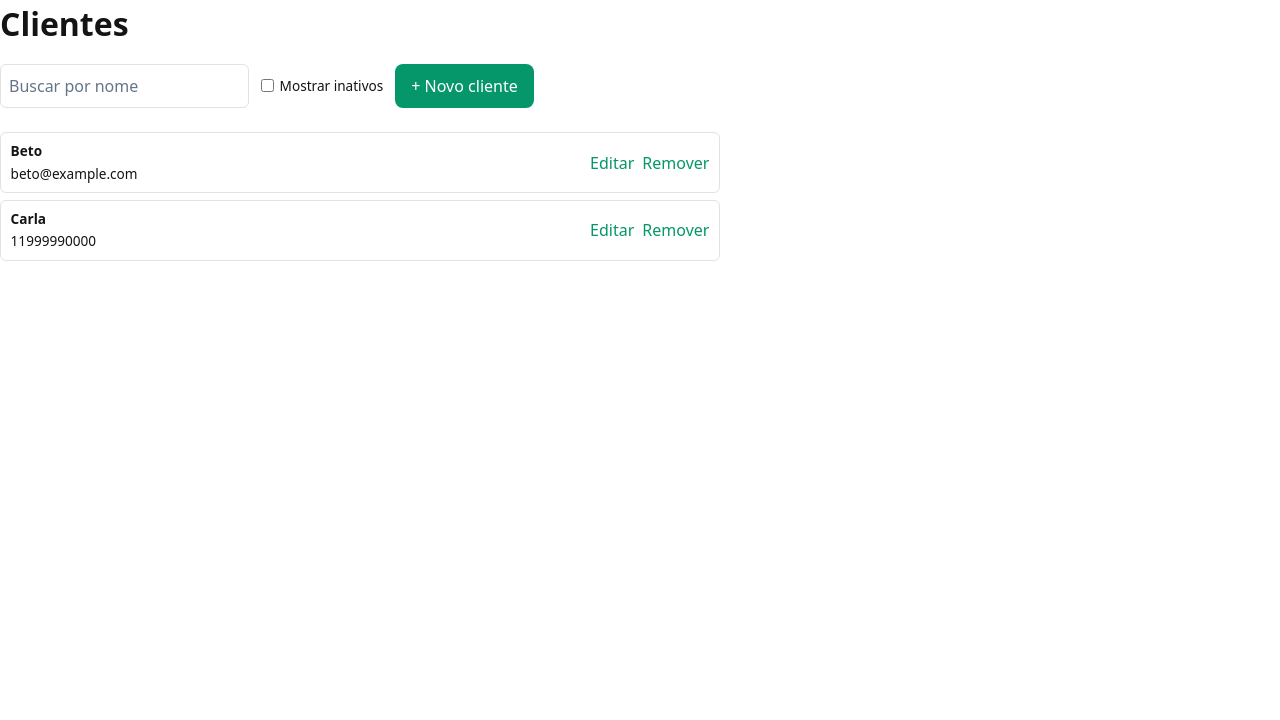
Test case: ClientesPage › opens the appointment history when clicking a client
The width and height of the screenshot is (1280, 720).
Click the text "Carla".
click(28, 219)  # box [11, 209, 46, 229]
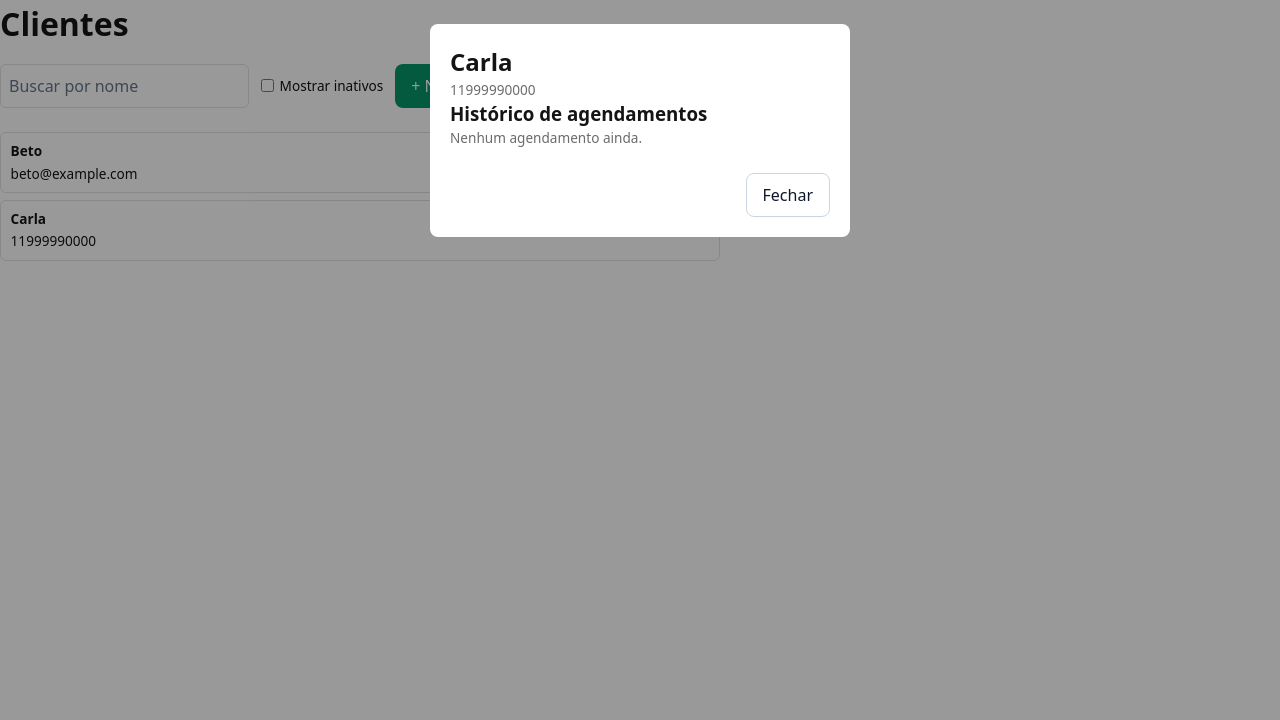
Expected: the heading "Histórico de agendamentos" is shown, [450, 101, 707, 126]
Expected: the text "Nenhum agendamento ainda." is shown, [450, 128, 642, 148]
